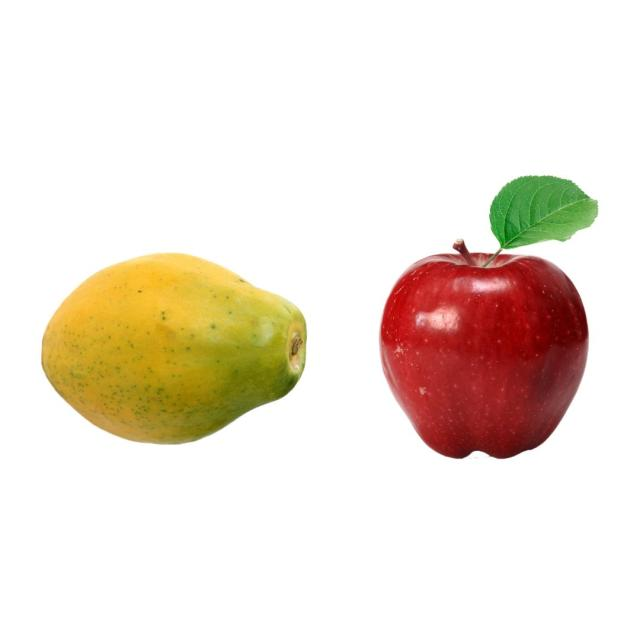Apel: (380, 248, 589, 461)
Pepaya: (40, 251, 307, 445)
